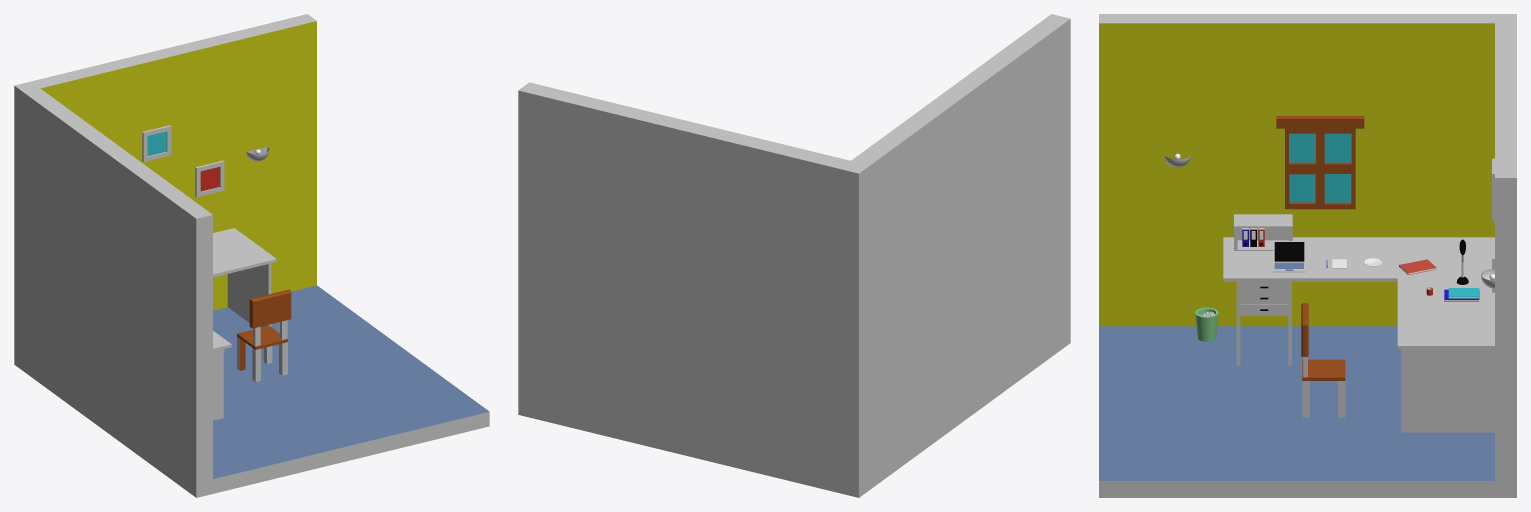
The picture shows the model from 3 angles, left to right: view 1: azimuth 30°, elevation 25°; view 2: azimuth 150°, elevation 25°; view 3: azimuth 270°, elevation 25°; orthographic projection. The views are drawn at different scales.
Visible parts, largest first — view 1: Cube; view 2: Cube; view 3: Cube.
Boxes of the visible parts, left/top/right/bottom form: Cube: left=14, top=14, right=489, bottom=497; Cube: left=518, top=14, right=1070, bottom=497; Cube: left=1099, top=14, right=1516, bottom=497.
Size of the model in its own units: 343 by 312 by 369.
